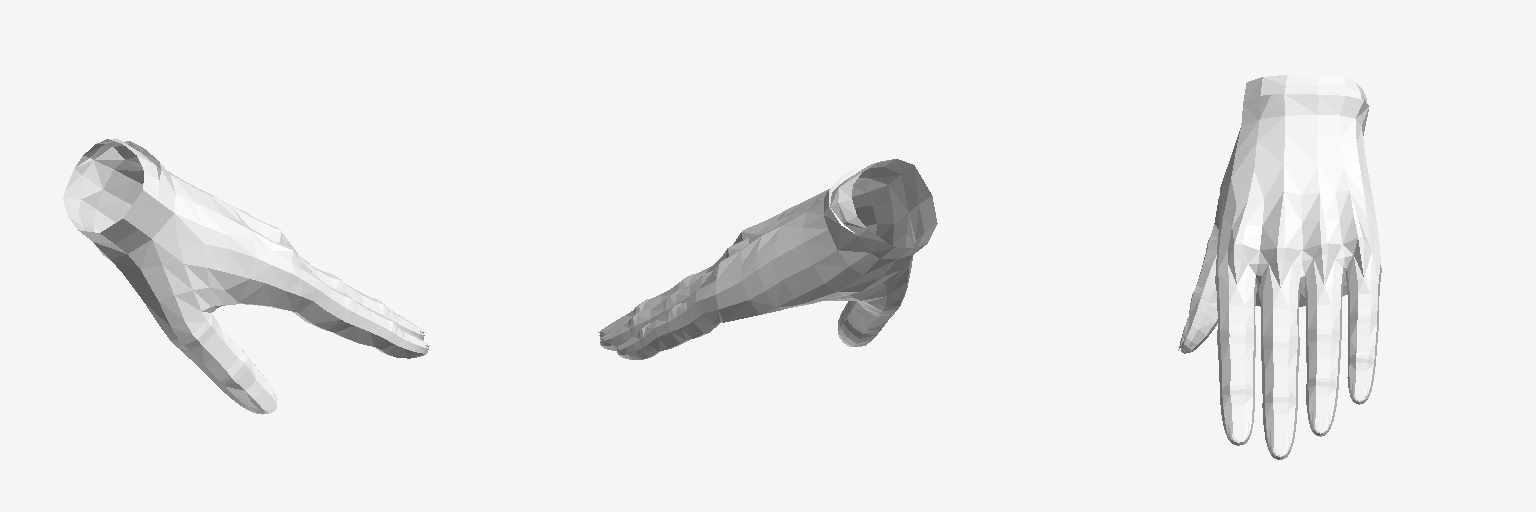
File: Blade_ManoIzq.obj
3 views of the same model, side by side, from view 1: azimuth 30°, elevation 25°; view 2: azimuth 150°, elevation 25°; view 3: azimuth 270°, elevation 25° (orthographic).
Parts seen in each view (by area): view 1: Mano_Izq; view 2: Mano_Izq; view 3: Mano_Izq.
Boxes of the visible parts, x1=… form: Mano_Izq: x1=63, y1=139, x2=429, y2=414; Mano_Izq: x1=598, y1=159, x2=937, y2=359; Mano_Izq: x1=1178, y1=75, x2=1381, y2=459.
Bounding box in the file's own units: 1 × 0.7103 × 0.5209.